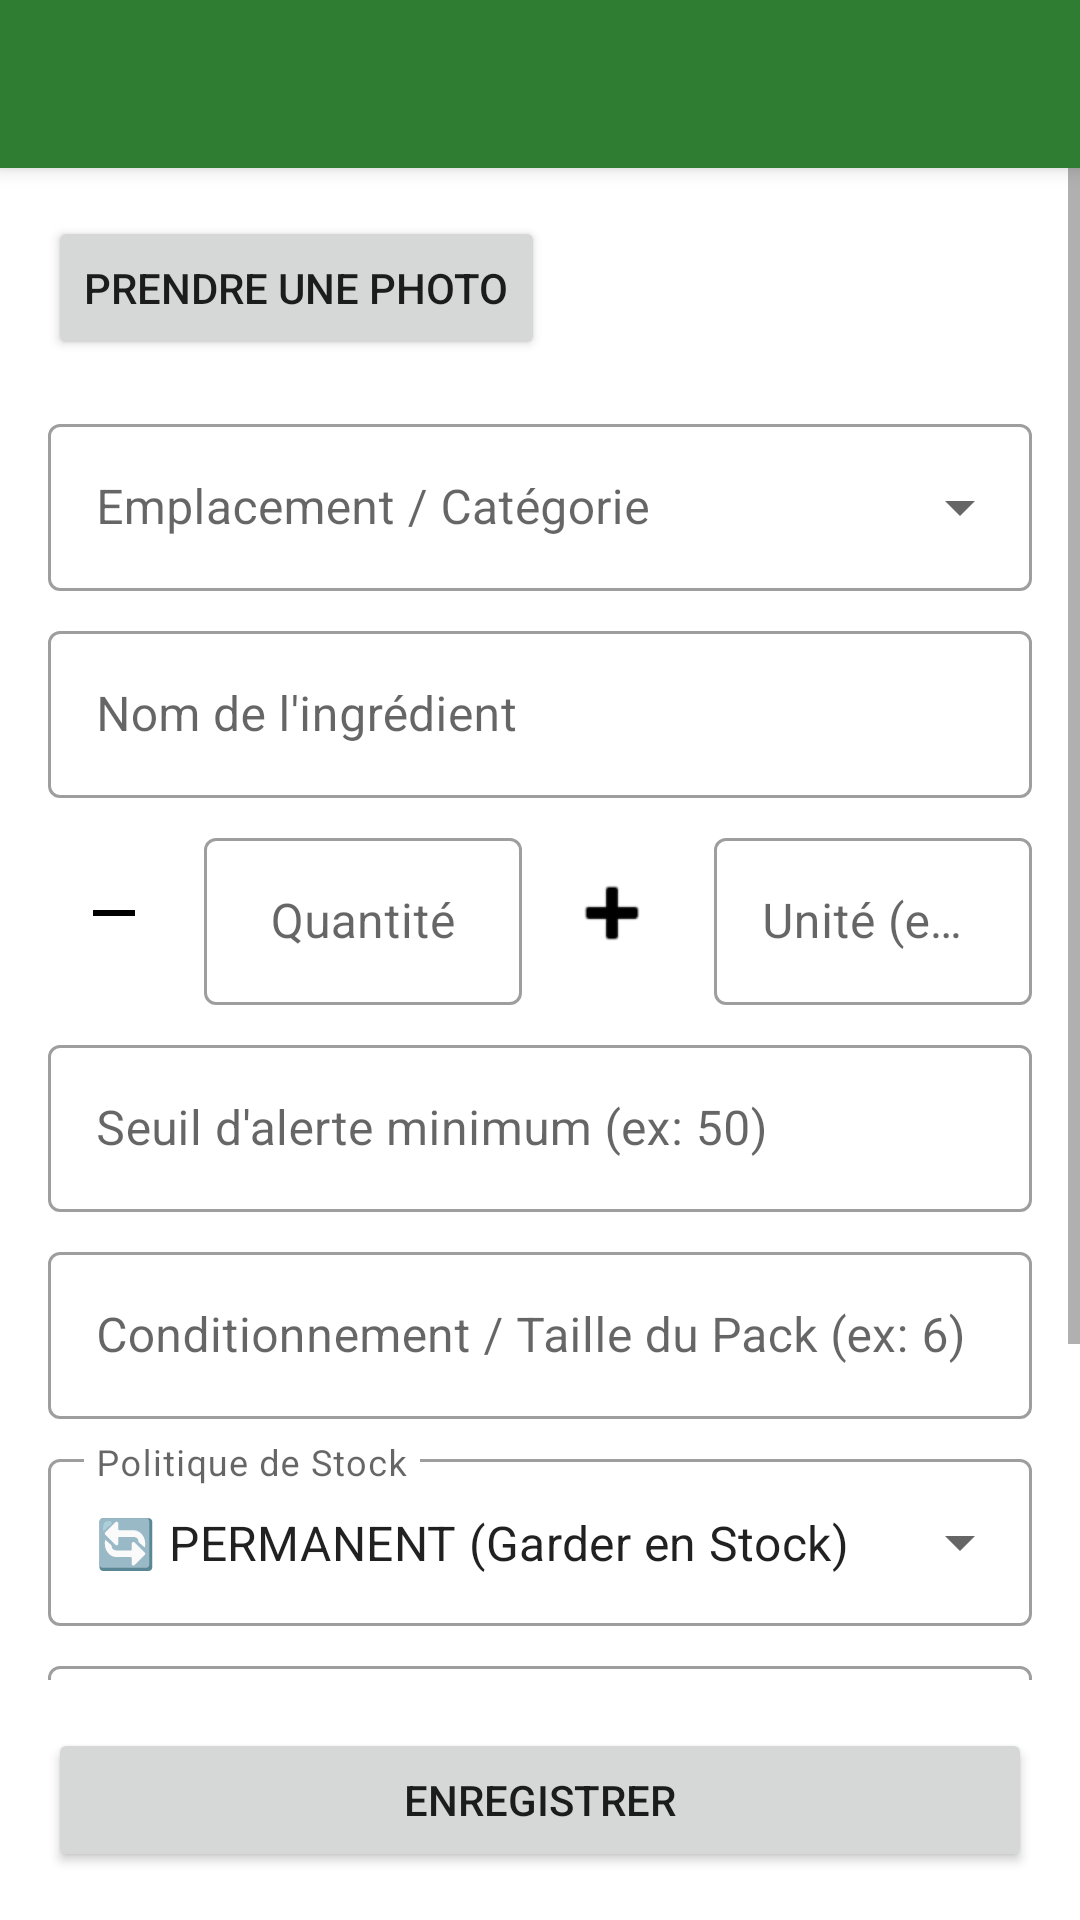

Icon bounding boxes for this 1080 × 1920 phone screenshot, format (x1=x1, y1=y1, x2=x2, y2=y2):
Augmenter: (x1=585, y1=886, x2=639, y2=940)
